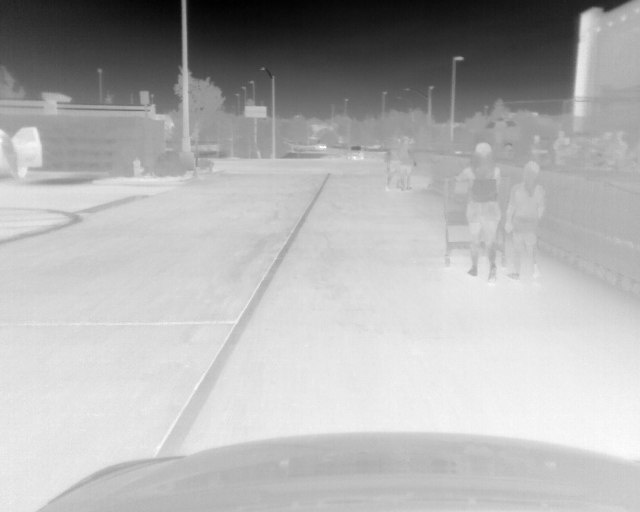car: (2, 128, 42, 178), (350, 144, 364, 161), (313, 142, 327, 151)
people: (457, 141, 505, 287), (508, 159, 549, 280), (398, 133, 417, 188), (384, 137, 401, 190), (602, 129, 627, 165), (552, 129, 571, 168), (2, 134, 19, 177), (528, 131, 548, 166)
